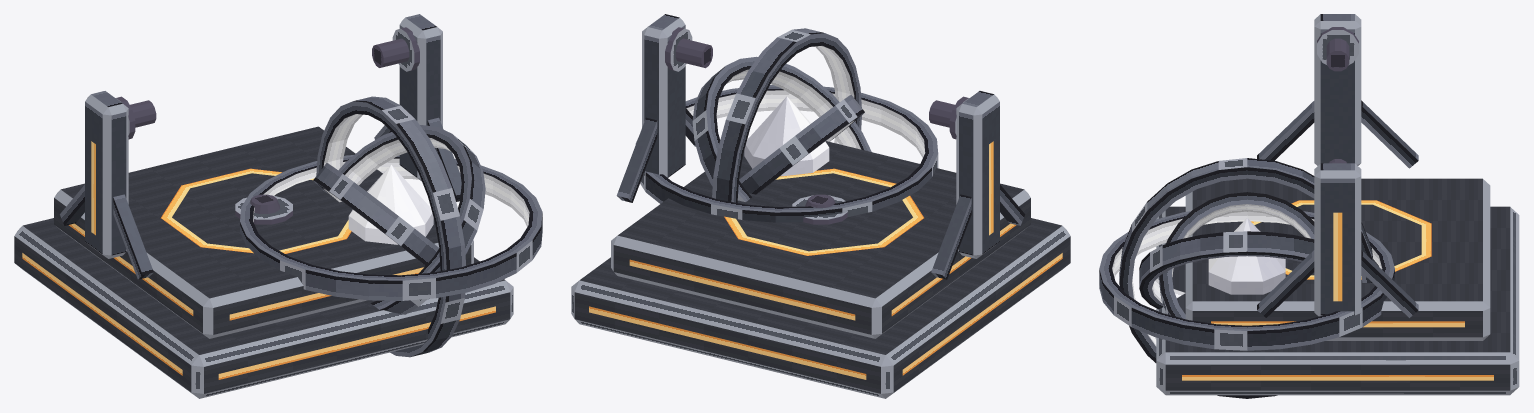
The model's file is marlit_regen.glb.
3 renders of one model, left to right at view 1: azimuth 30°, elevation 25°; view 2: azimuth 150°, elevation 25°; view 3: azimuth 270°, elevation 25°, orthographic. The views are drawn at different scales.
Visible parts, largest first — view 1: marlit_regen_frame, marlit_regen_ring0, marlit_regen_ring1, marlit_regen_ring2, marlit_regen_ring3, marlit_regen_crystal, marlit_regen_glow0, marlit_regen_glow2, marlit_regen_glow1; view 2: marlit_regen_frame, marlit_regen_ring0, marlit_regen_ring1, marlit_regen_ring2, marlit_regen_ring3, marlit_regen_crystal, marlit_regen_glow0, marlit_regen_glow2, marlit_regen_glow1; view 3: marlit_regen_frame, marlit_regen_ring0, marlit_regen_ring1, marlit_regen_ring2, marlit_regen_crystal, marlit_regen_ring3, marlit_regen_glow0, marlit_regen_glow3.
Boxes of the visible parts, bbox=[...] form: marlit_regen_frame: bbox=[14, 14, 513, 398]; marlit_regen_ring0: bbox=[240, 155, 542, 300]; marlit_regen_ring1: bbox=[316, 96, 465, 357]; marlit_regen_ring2: bbox=[323, 125, 485, 314]; marlit_regen_ring3: bbox=[313, 163, 438, 265]; marlit_regen_crystal: bbox=[348, 164, 433, 244]; marlit_regen_glow0: bbox=[253, 158, 529, 226]; marlit_regen_glow2: bbox=[345, 138, 451, 185]; marlit_regen_glow1: bbox=[323, 114, 362, 170]; marlit_regen_frame: bbox=[571, 14, 1070, 398]; marlit_regen_ring0: bbox=[635, 85, 938, 222]; marlit_regen_ring1: bbox=[712, 28, 861, 202]; marlit_regen_ring2: bbox=[692, 56, 871, 201]; marlit_regen_ring3: bbox=[739, 94, 864, 194]; marlit_regen_crystal: bbox=[744, 96, 829, 176]; marlit_regen_glow0: bbox=[686, 90, 925, 157]; marlit_regen_glow2: bbox=[726, 69, 861, 149]; marlit_regen_glow1: bbox=[815, 46, 855, 143]; marlit_regen_frame: bbox=[1156, 14, 1519, 395]; marlit_regen_ring0: bbox=[1099, 211, 1394, 350]; marlit_regen_ring1: bbox=[1119, 158, 1373, 398]; marlit_regen_ring2: bbox=[1139, 231, 1314, 309]; marlit_regen_crystal: bbox=[1208, 218, 1285, 294]; marlit_regen_ring3: bbox=[1159, 192, 1314, 319]; marlit_regen_glow0: bbox=[1112, 211, 1382, 277]; marlit_regen_glow3: bbox=[1172, 204, 1310, 276].
Bounding box in the file's own units: 2.37 × 1.6 × 2.32.
Materials: 1 (1 with a texture image).
